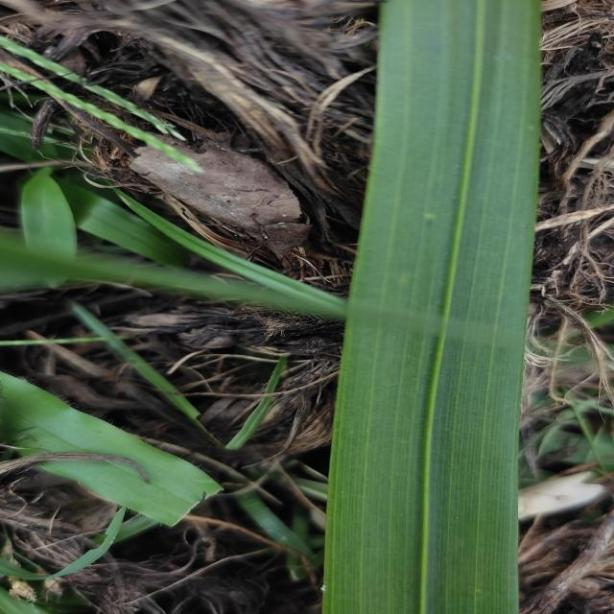Healthy: (322, 0, 540, 614)
